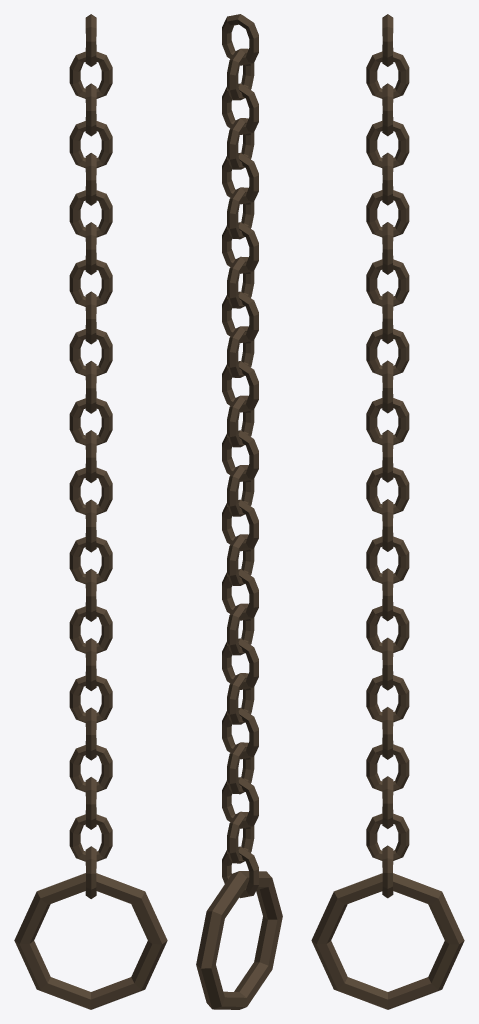
File: zincir.fbx
3 views of the same model, side by side, from view 1: azimuth 90°, elevation 25°; view 2: azimuth 150°, elevation 25°; view 3: azimuth 270°, elevation 25° (orthographic).
Parts seen in each view (by area): view 1: Torus; view 2: Torus; view 3: Torus.
Part boxes in pixels (x1=…): Torus: x1=14, y1=14, x2=167, y2=1009; Torus: x1=196, y1=14, x2=282, y2=1009; Torus: x1=311, y1=14, x2=464, y2=1009.
Bounding box in the file's own units: 12.68 × 324 × 45.24.
